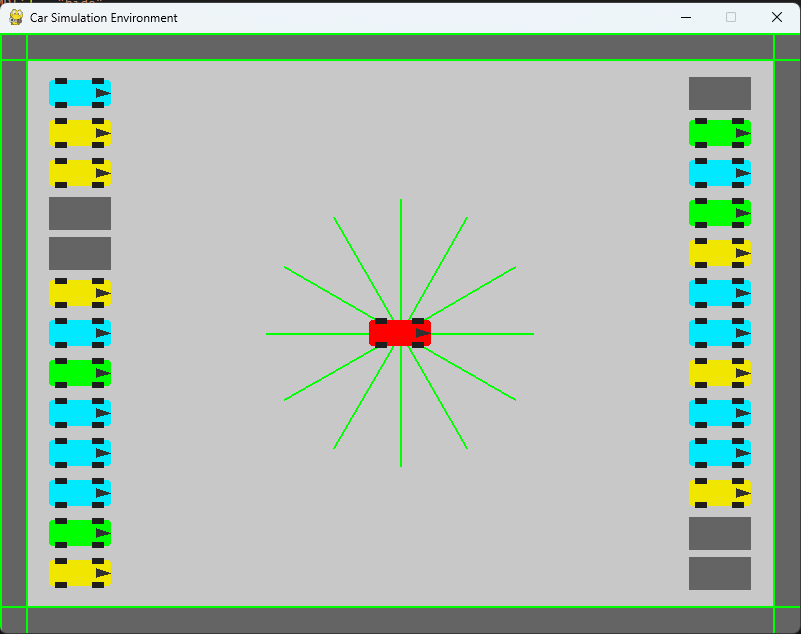ControlledCar: (357, 311, 442, 356)
ParkedCar: (47, 274, 116, 315), (686, 313, 754, 354), (50, 432, 115, 474), (684, 392, 752, 432), (47, 114, 115, 153), (47, 71, 111, 112), (683, 111, 752, 149), (50, 393, 115, 433), (46, 515, 111, 554), (46, 157, 118, 192), (683, 274, 753, 310), (687, 236, 760, 270), (47, 354, 114, 391), (686, 475, 752, 512), (685, 194, 752, 230), (685, 158, 760, 189), (684, 435, 752, 468), (47, 557, 111, 592), (46, 317, 118, 348), (686, 358, 757, 389), (48, 477, 114, 509)
ParkingSpot: (41, 231, 123, 275), (683, 510, 760, 554), (683, 69, 758, 112), (46, 196, 118, 235), (683, 556, 759, 592)
